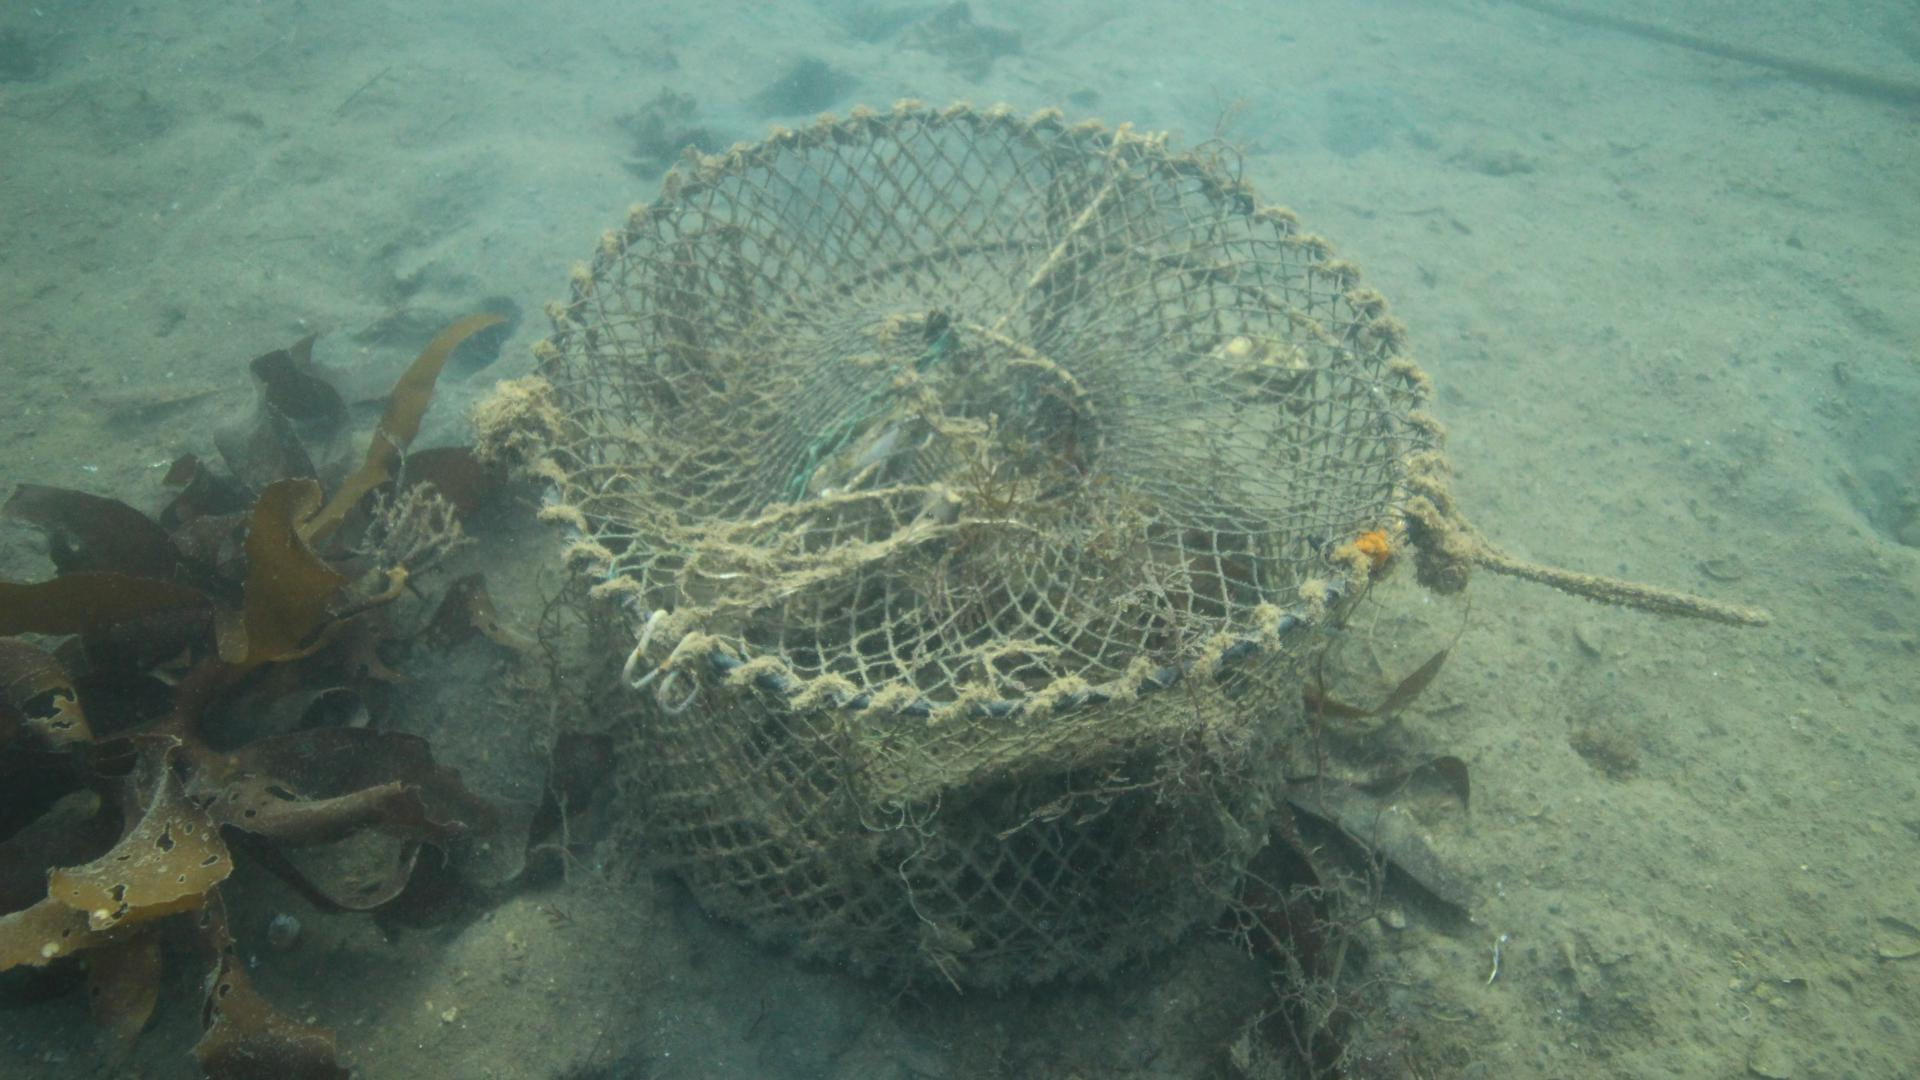circular fish trap: (518, 102, 1440, 990)
rope: (1478, 553, 1774, 630)
